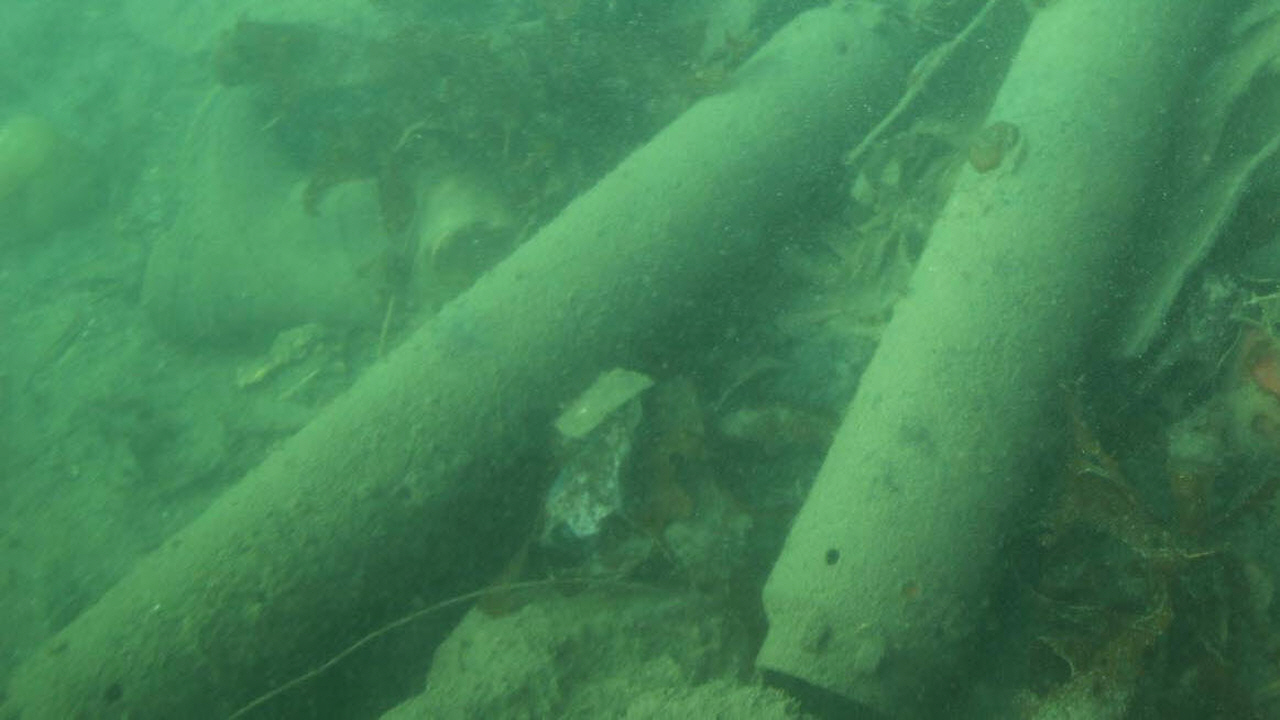eel fish trap: (0, 0, 906, 720), (754, 0, 1218, 718)
